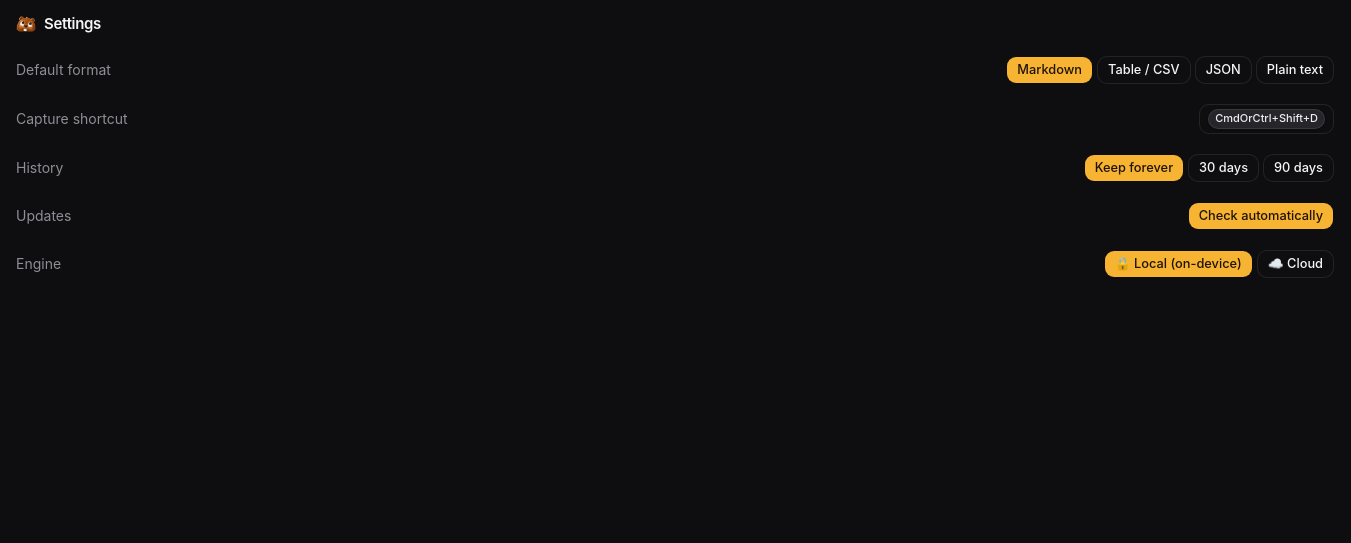
Scenario: SettingsPanel › shows a shortcut conflict next to the shortcut field, not in the cloud panel
The image size is (1351, 543).
Click the button "☁️ Cloud" at coordinates (1295, 264), box [1257, 250, 1334, 278]
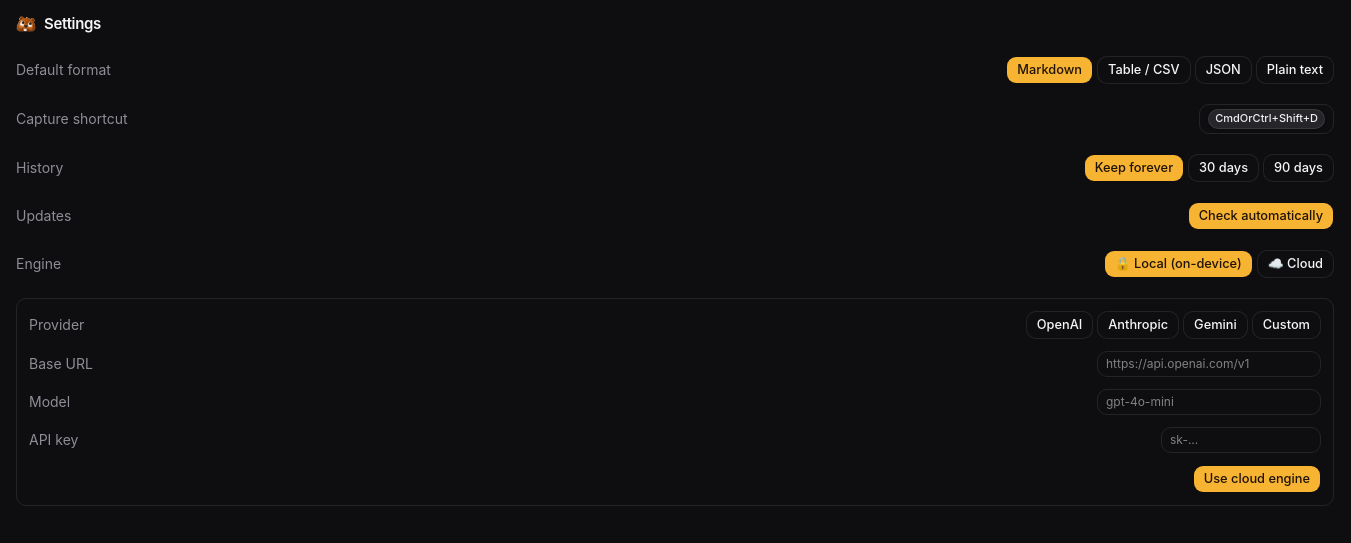
Now the field named "Base URL" is shown, box [1097, 350, 1321, 376]
Click the button with test id "shortcut-field" at coordinates (1267, 118), box [1199, 104, 1334, 134]
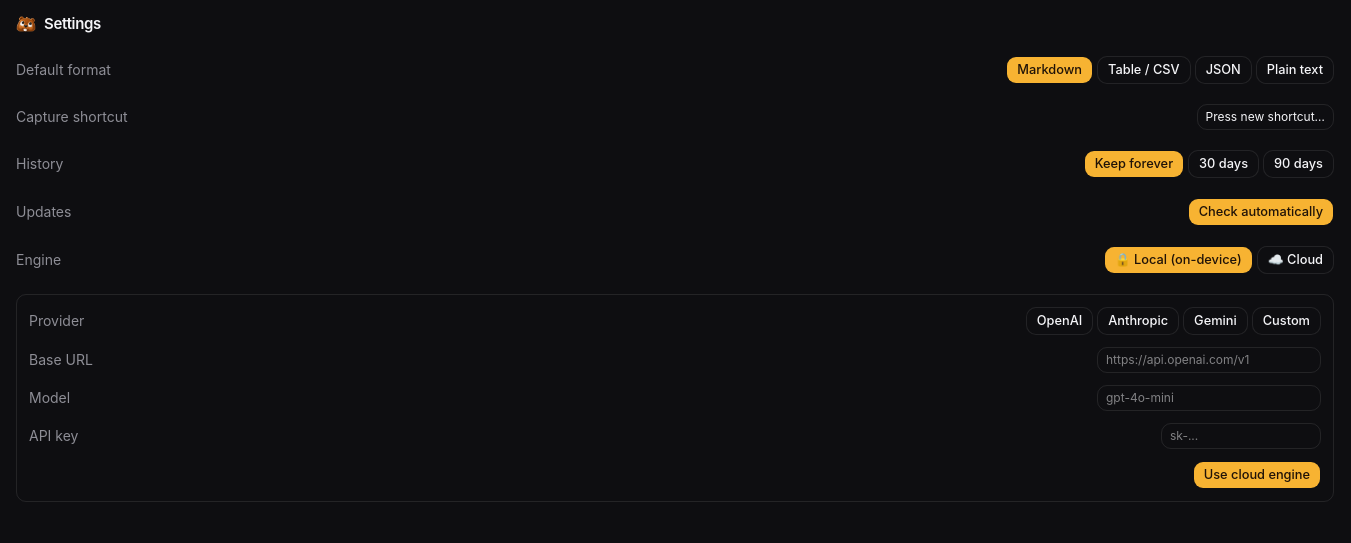
Press X
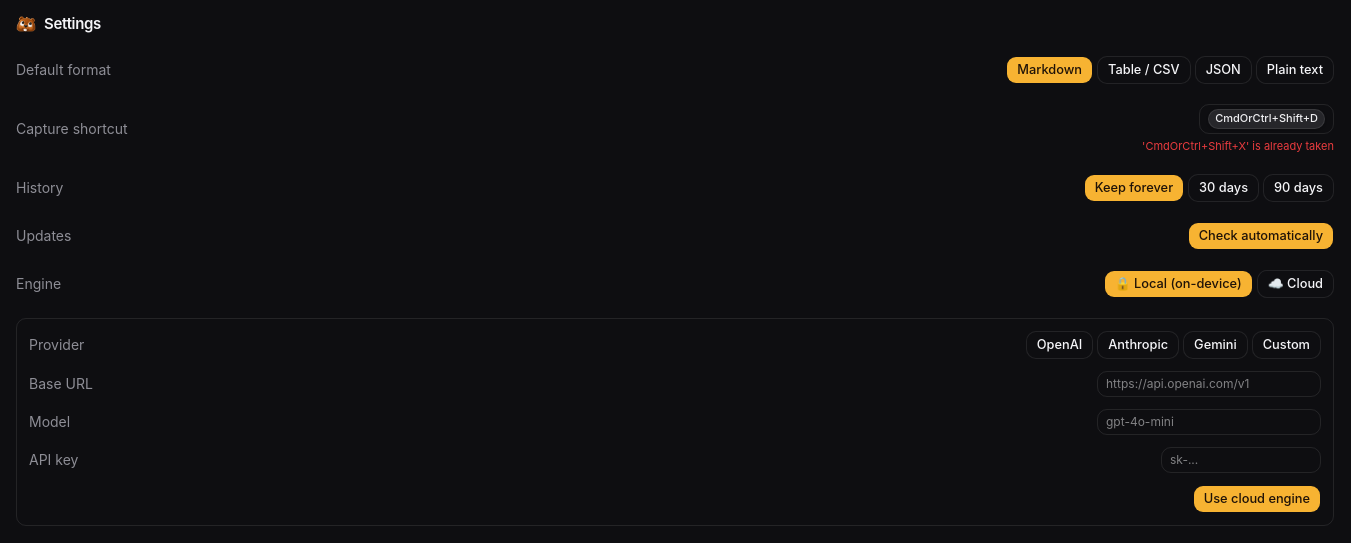
Now the text "'CmdOrCtrl+Shift+X' is already taken" is shown, box [1142, 138, 1334, 154]
